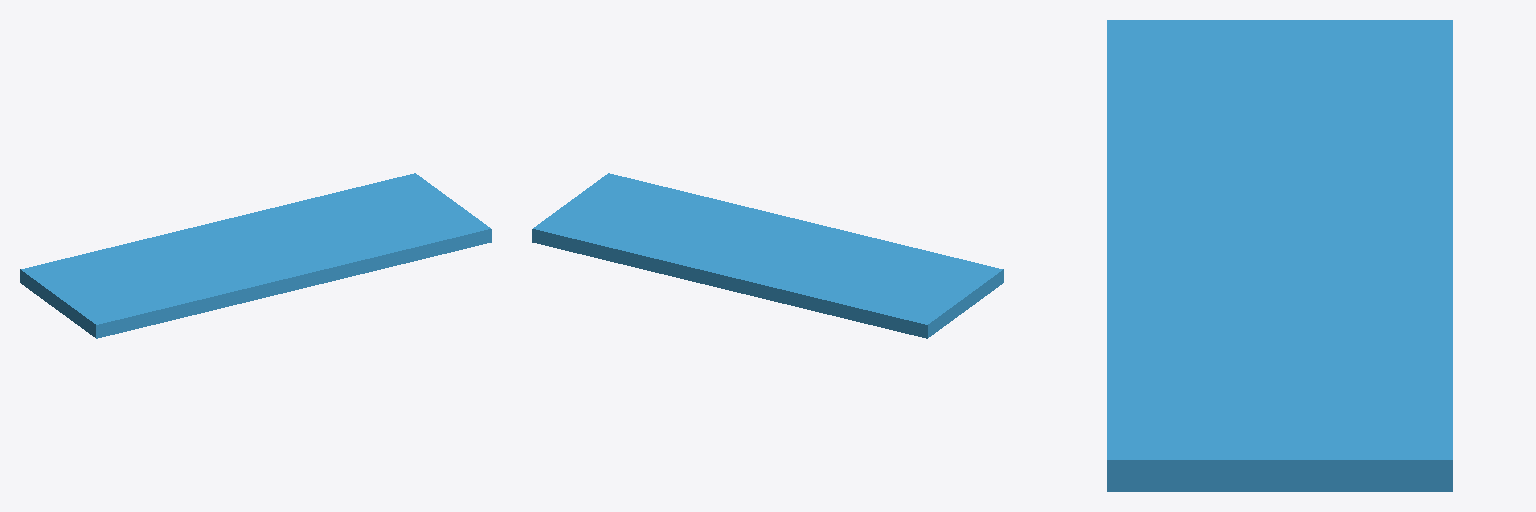
URDF robot description (cylinder_43):
    
    <robot name="cylinder_43">
        <link name="cylinder_43">    
            <fem>
                <origin rpy="0.0 0.0 0.0" xyz="0 0 0" />
                <density value="100" />
                <youngs value="9011"/>
                <poissons value="0.3" />
                <damping value="0.0" />
                <attachDistance value="0.01" />
                <tetmesh filename="[local-path]/sim_data/Custom/Custom_mesh/multi_cylinder_10kPa/cylinder_43.tet" />
                <scale value="0.5"/>
            </fem>
        </link>

        <link name="fix_frame">
            <visual>
                <origin xyz="0.0 0.0 10.084851648407259"/>
                <geometry>
                    <box size="0.15 0.049993857009379306 0.005"/>
                </geometry>
            </visual>
            <collision>
                <origin xyz="0.0 0.0 0.08485164840725976"/>
                <geometry>
                    <box size="0.15 0.049993857009379306 0.005"/>
                </geometry>
            </collision>
            <inertial>
                <mass value="500000"/>
                <inertia ixx="0.05" ixy="0.0" ixz="0.0" iyy="0.05" iyz="0.0" izz="0.05"/>
            </inertial>
        </link>
        
        <joint name = "attach" type = "fixed">
            <origin xyz = "0.0 0.0 0.0" rpy = "0 0 0"/>
            <parent link ="cylinder_43"/>
            <child link = "fix_frame"/>
        </joint>  




    </robot>
    

--- Facts derived from the render (not from the file) ---
Views: 3 orthographic renders of the robot side by side, from view 1: azimuth 30°, elevation 25°; view 2: azimuth 150°, elevation 25°; view 3: azimuth 270°, elevation 25°.
Robot: cylinder_43 — 2 links, 1 joints (1 fixed); root link cylinder_43; default pose: every joint at zero.
Visible links, largest first — view 1: fix_frame; view 2: fix_frame; view 3: fix_frame.
Link boxes in pixels (x1,y1,x2,y2): fix_frame: [20, 173, 491, 338]; fix_frame: [532, 173, 1003, 338]; fix_frame: [1107, 20, 1452, 491].
Bounding box of the posed robot: 0.15 × 0.05 × 0.005 m (x, y, z).
Geometry: primitives only (box / cylinder / sphere), no mesh files.